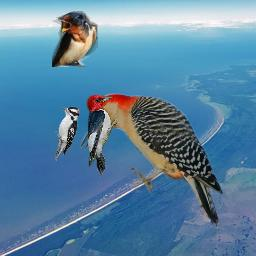Swallow: (52, 11, 98, 67)
Woodpecker: (80, 93, 226, 231), (85, 95, 119, 178), (55, 104, 81, 161)
